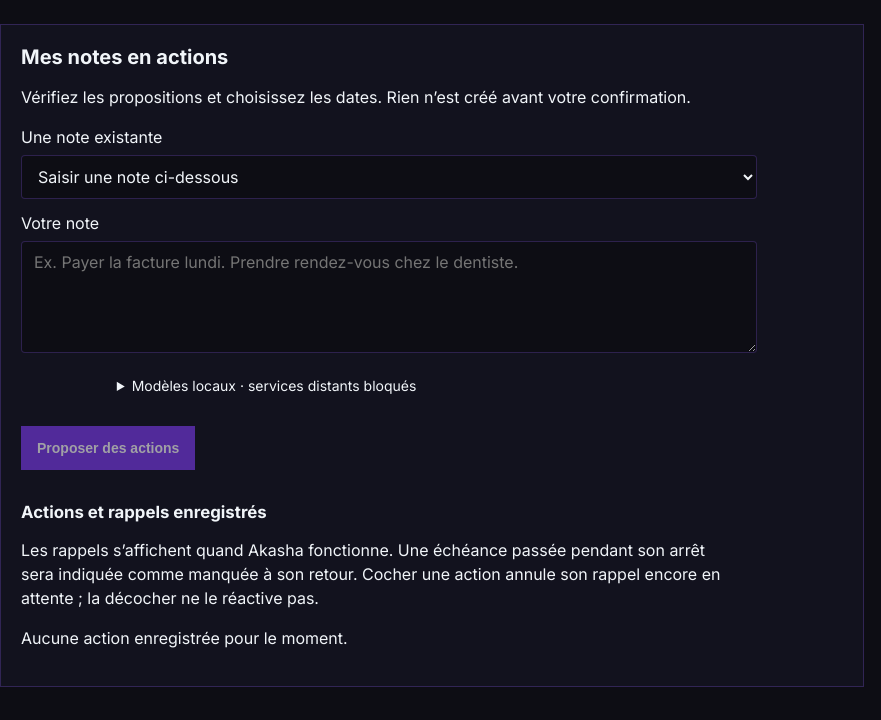
Test: keeps ambiguous action dates empty and requires confirmation before persistence
Replace the text in the text box labelled "Votre note" with "Payer lundi" at (389, 297), box [21,241,757,353]
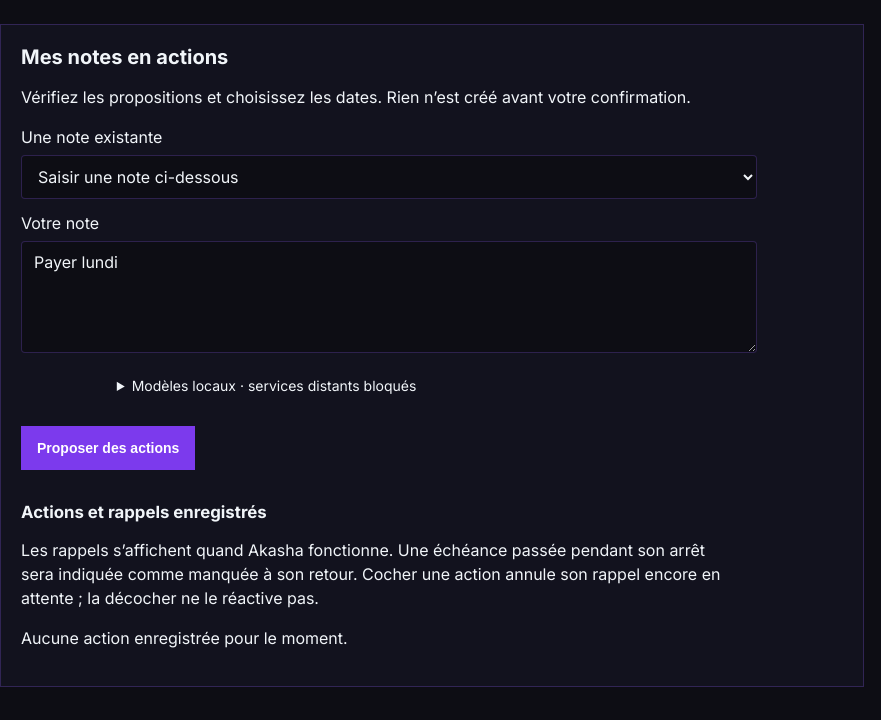
Click the button "Proposer des actions" at (108, 448), box [21,426,195,470]
(page scrolled)
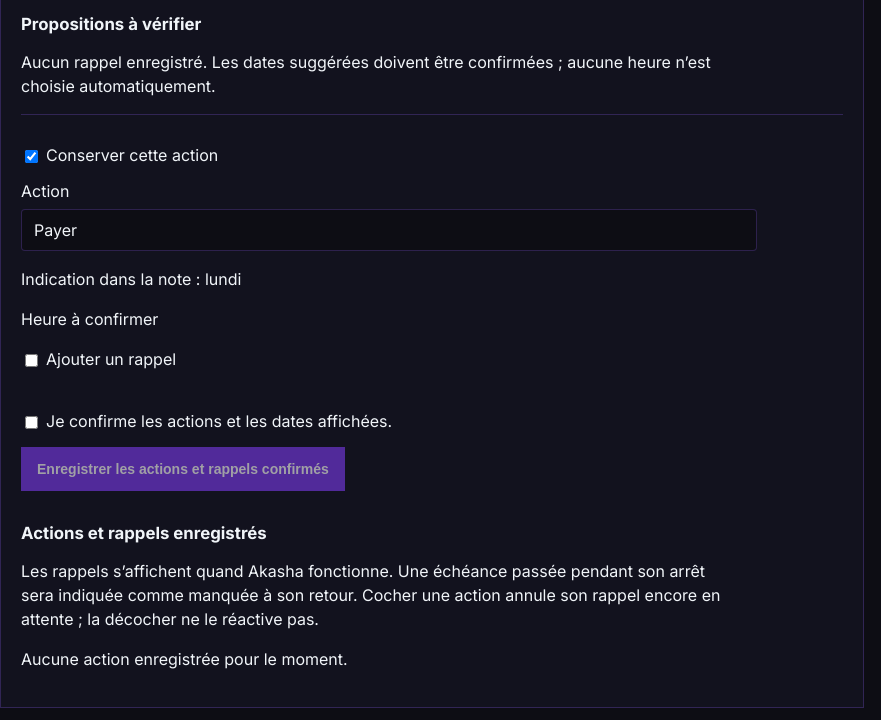
Now the text "Heure à confirmer" is shown, box [21,309,158,329]
Click the checkbox labelled "Ajouter un rappel" at (32, 361), box [25,354,38,368]
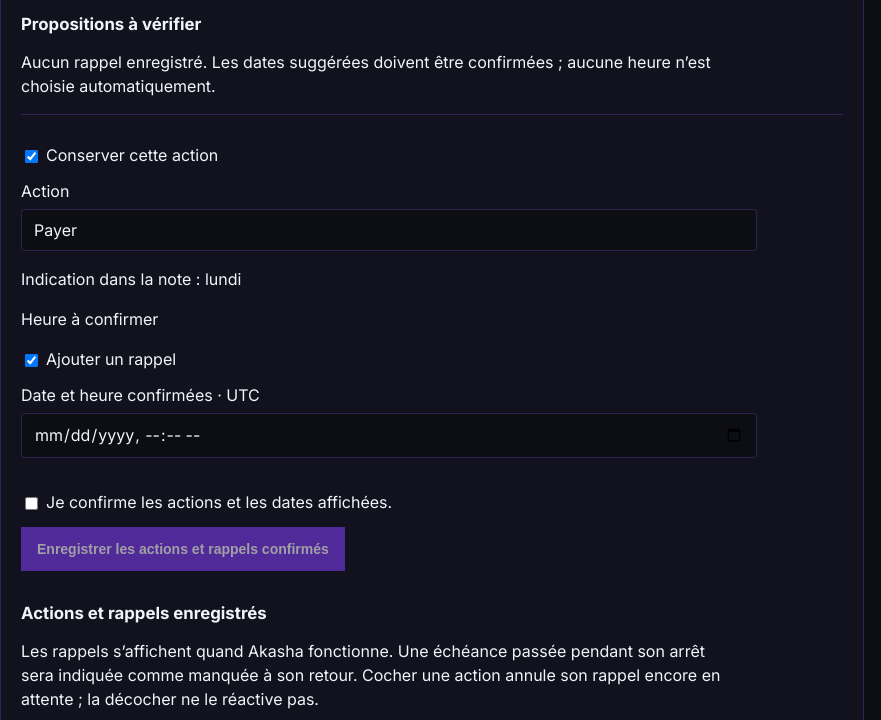
Now the button "Enregistrer les actions et rappels confirmés" is disabled, box [21,527,345,571]
Now the field labelled "Date et heure confirmées · UTC" is empty
Type "2027-06-21T10:30" into the field labelled "Date et heure confirmées · UTC" at (389, 435), box [21,413,757,458]
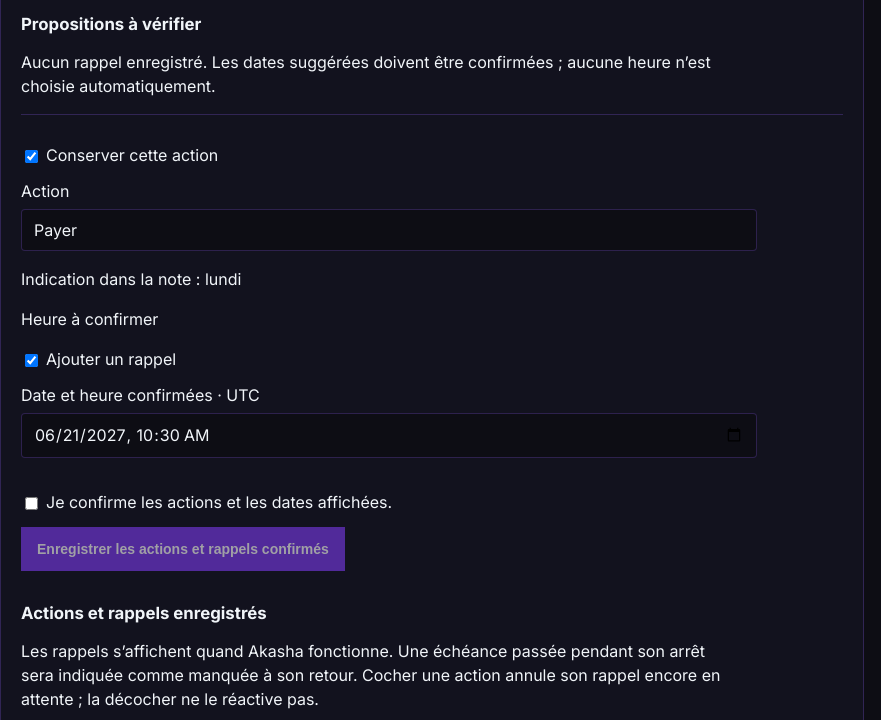
Click the checkbox labelled "Je confirme les actions et les dates affichées." at (32, 503), box [25,497,38,510]
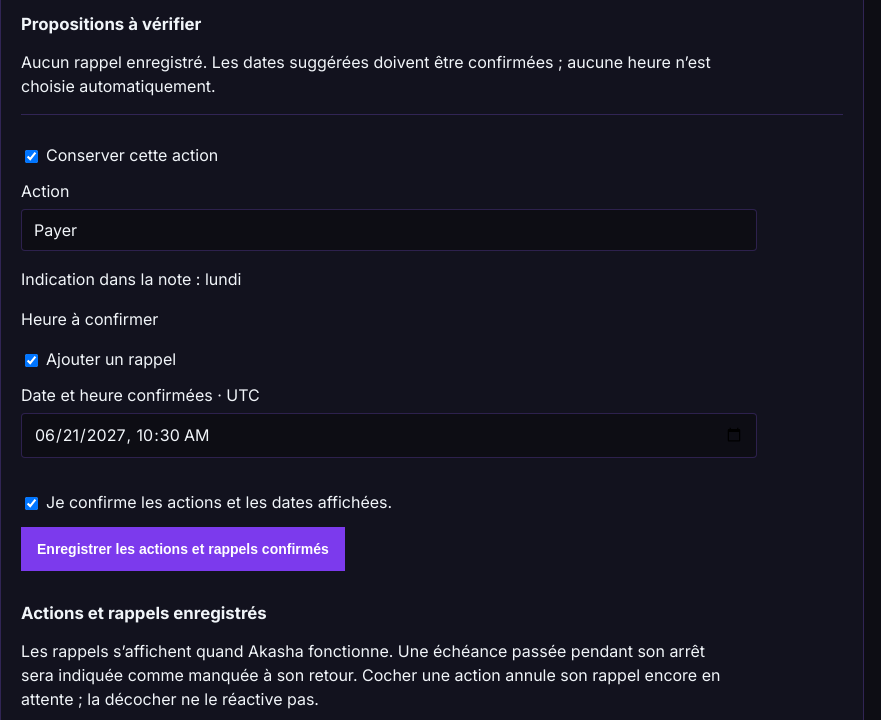
Click the button "Enregistrer les actions et rappels confirmés" at (183, 549), box [21,527,345,571]
(page scrolled)
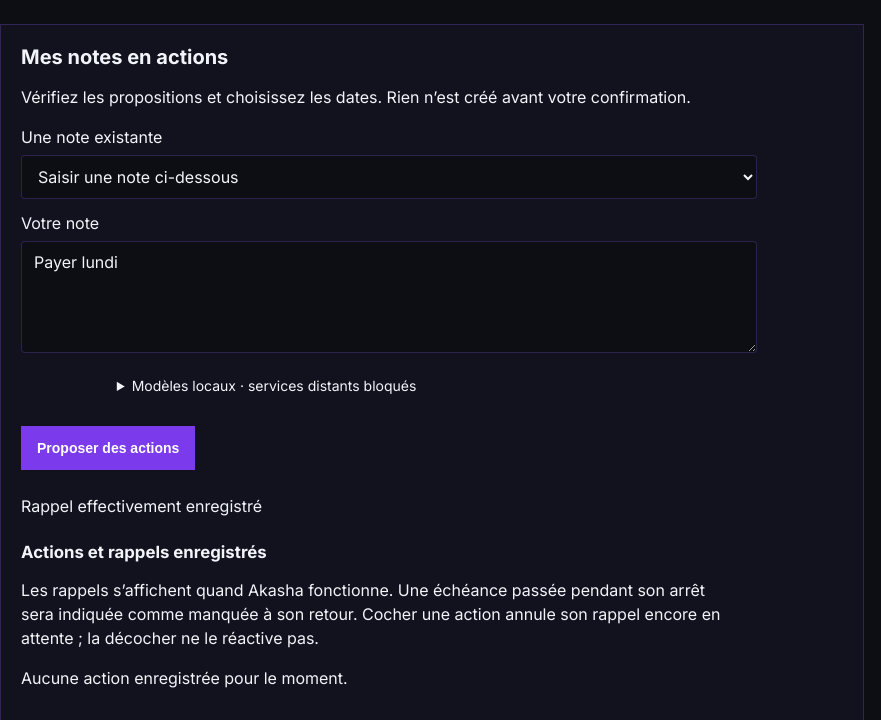
Now the text "Rappel effectivement enregistré" is shown, box [21,496,262,516]
